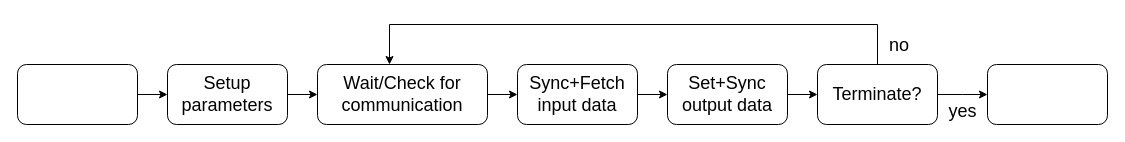
Some shapes in this 1125 by 142 pixel diagram are drawn without their labels. The shapes that lost their labels are listed below. From the top down, each one's box as (x1, y1, x2, y2) in pixels, then its label:
(16, 64, 138, 124): Initialize SPI
(986, 64, 1108, 124): Shutdown board
